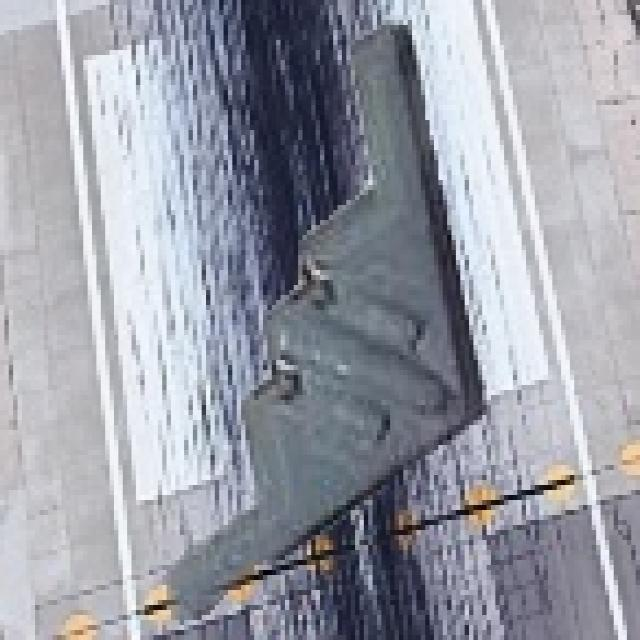B-2_TopDown: (131, 15, 491, 635)
